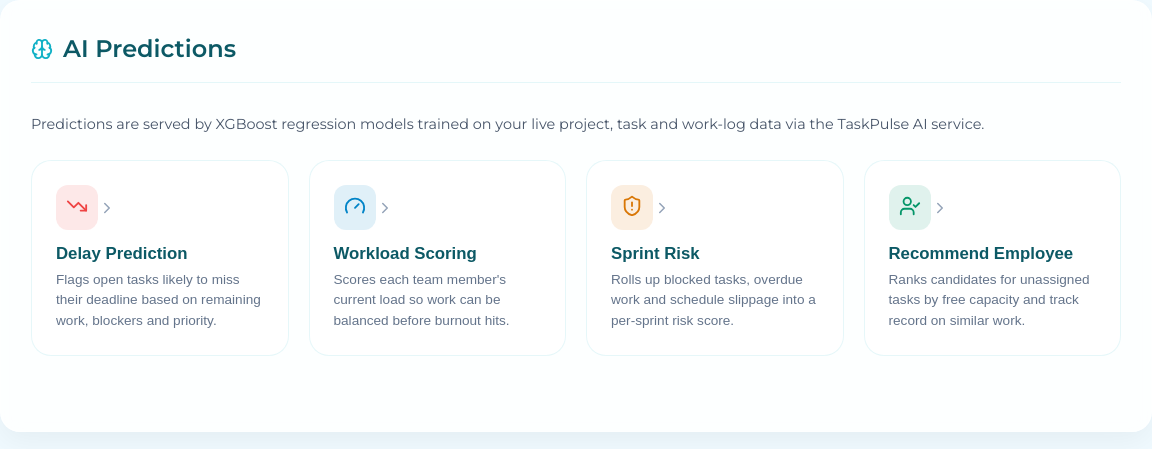
Test: AIPredictionsModule (UI) › UI-3 clicking Recommend Employee card navigates into that sub-view
Click the heading "Recommend Employee" at (992, 254), box [888,244,1096,264]
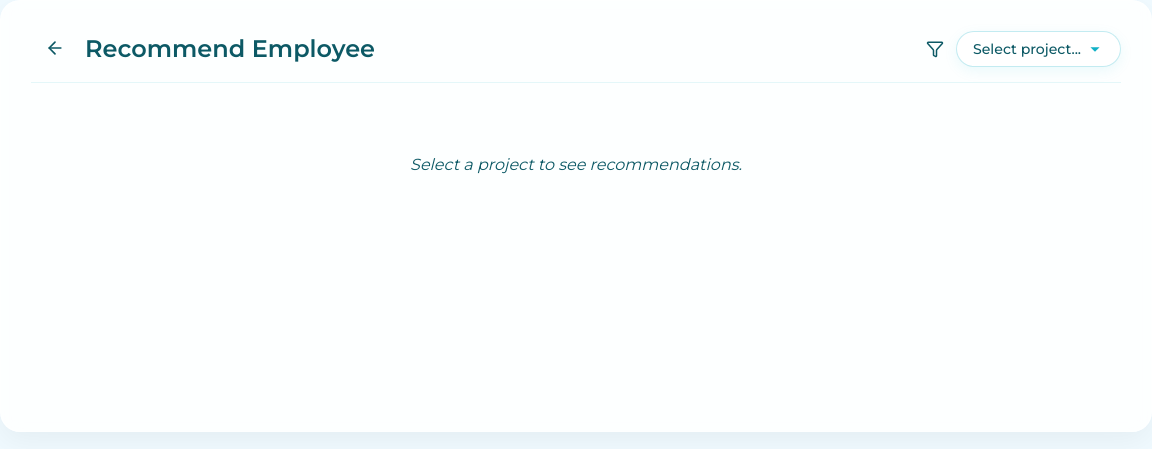
Check: the heading "Recommend Employee" is shown, box [85,31,375,67]
